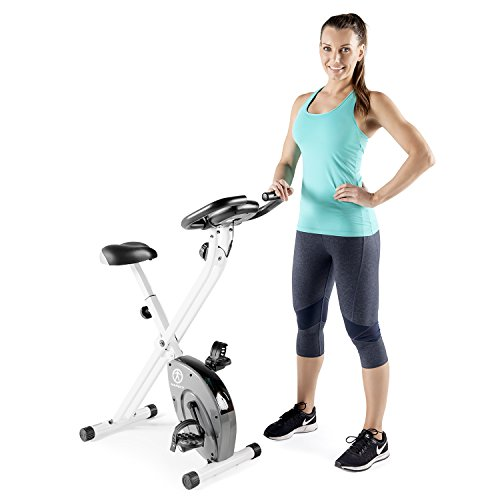gym_bike: (59, 180, 286, 493)
